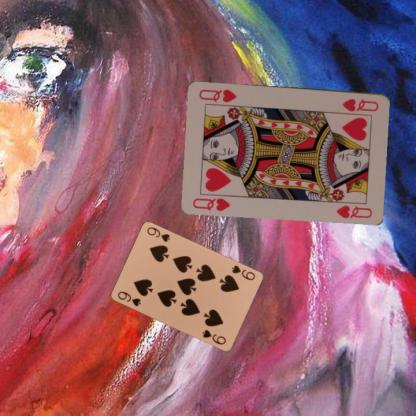9s: (229, 262, 256, 282), (115, 289, 142, 307)
Qh: (190, 195, 232, 212), (339, 96, 380, 113)
